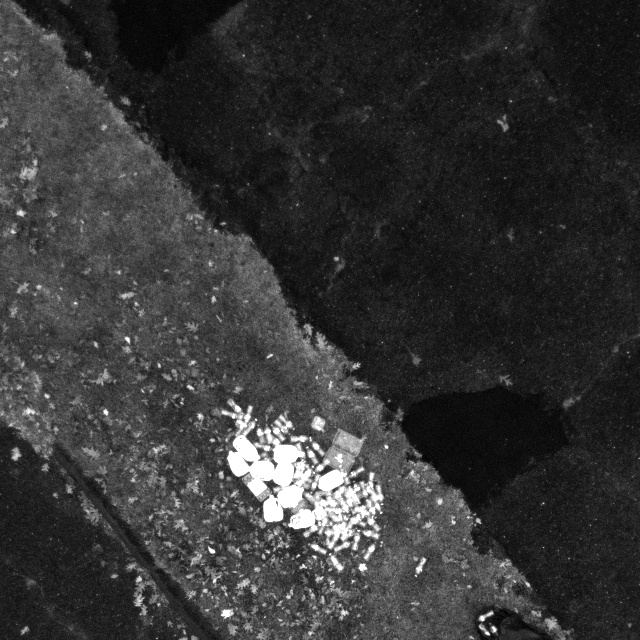bottle: (238, 415, 259, 437), (250, 439, 276, 456), (272, 416, 293, 437), (324, 526, 342, 550), (225, 397, 246, 417), (276, 412, 296, 432), (300, 489, 320, 509), (369, 493, 385, 517), (326, 552, 344, 573), (269, 421, 286, 443), (332, 493, 349, 515), (411, 555, 428, 576), (300, 521, 322, 537), (362, 513, 380, 532), (329, 484, 349, 501), (303, 445, 319, 466), (372, 483, 386, 507), (349, 526, 361, 553), (312, 457, 331, 474), (262, 419, 274, 445), (253, 423, 267, 445), (309, 439, 326, 457), (232, 418, 248, 437), (361, 541, 376, 561), (345, 465, 366, 479), (314, 514, 328, 535), (363, 497, 377, 518), (345, 486, 361, 504), (330, 540, 352, 553), (307, 541, 327, 555), (359, 527, 380, 540), (220, 408, 239, 422), (307, 472, 319, 494), (322, 505, 346, 516), (340, 526, 357, 541), (242, 404, 254, 425), (289, 434, 313, 444), (270, 483, 290, 493), (367, 471, 376, 493), (258, 453, 274, 465), (268, 434, 281, 448)
can: (230, 433, 261, 464), (314, 467, 347, 493), (260, 493, 286, 525), (271, 442, 306, 465), (273, 483, 303, 509), (224, 448, 250, 478), (285, 508, 316, 530), (247, 460, 276, 481), (273, 462, 296, 485)
container: (321, 427, 365, 477), (240, 469, 274, 504), (309, 413, 328, 433)
